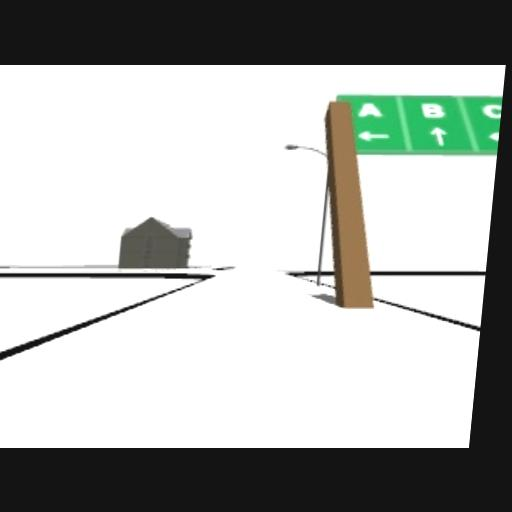A: (357, 101, 382, 115)
B: (419, 102, 446, 116)
C: (482, 103, 502, 117)
Left: (357, 128, 390, 140), (486, 130, 499, 142)
Straight: (429, 124, 448, 144)
